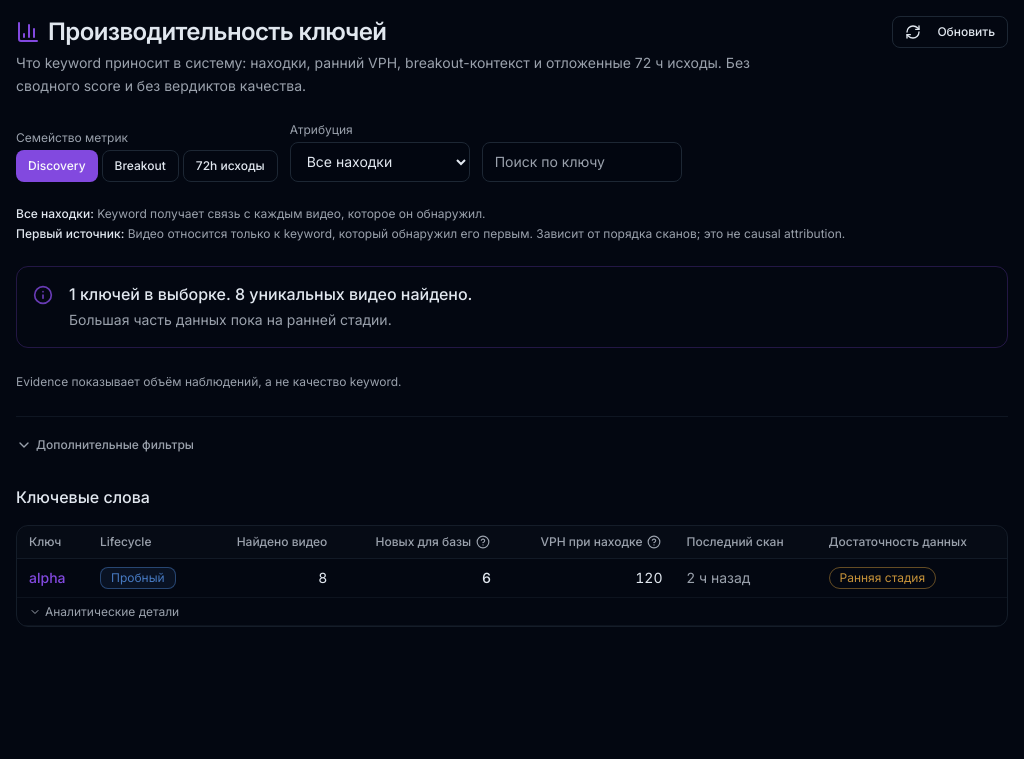
Scenario: KeywordPerformanceDashboard › cross-keyword duplicate hidden until expansion
Expected: the element with test id "discovery-table" is shown, [16,525,1008,627]
Expected: the text "Пересечения с другими ключами" is not shown
Click the button "Аналитические детали".
click(104, 612)  # box [29,602,179,621]
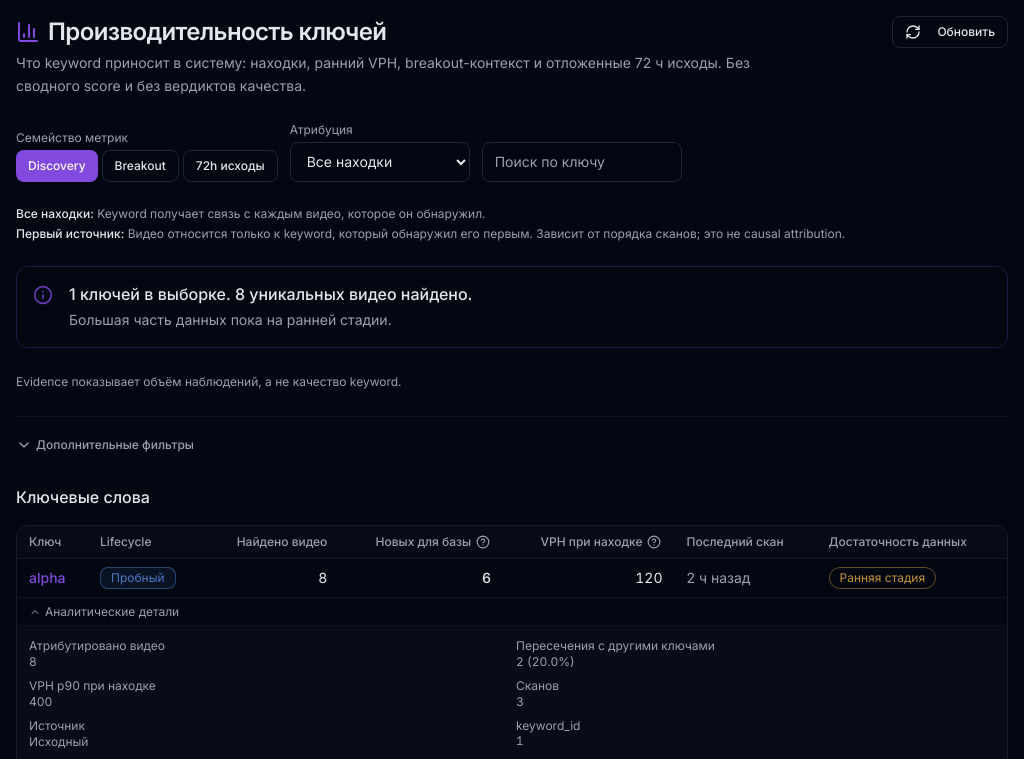
Now the text "Пересечения с другими ключами" is shown, box [516,638,715,653]
